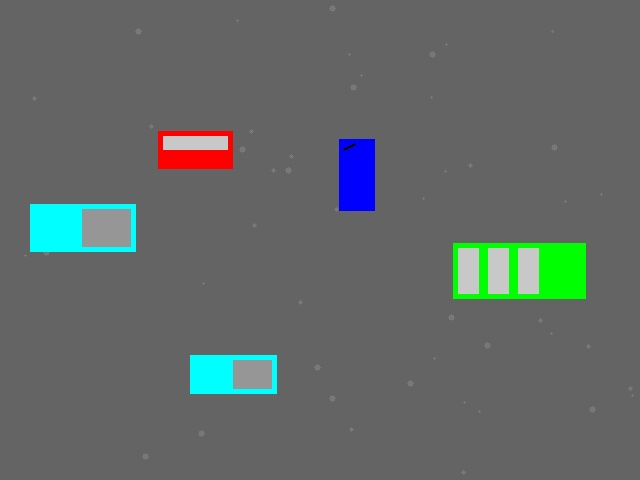bus: (453, 243, 585, 298)
car: (158, 131, 232, 168)
motorcycle: (339, 139, 374, 210)
truck: (30, 204, 135, 251), (190, 355, 276, 393)
